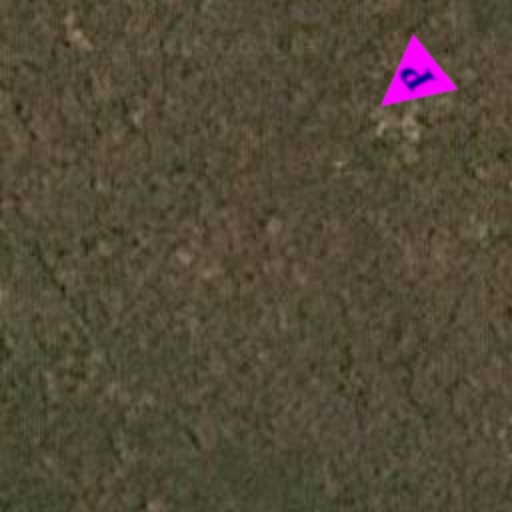triangle: (356, 32, 460, 136)
